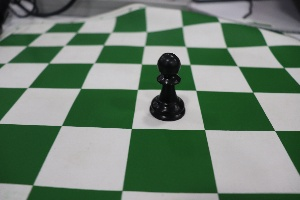black_pawn: (146, 43, 188, 126)
